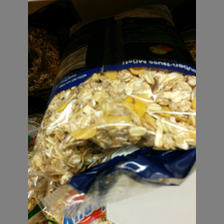cereal: (31, 45, 196, 212)
